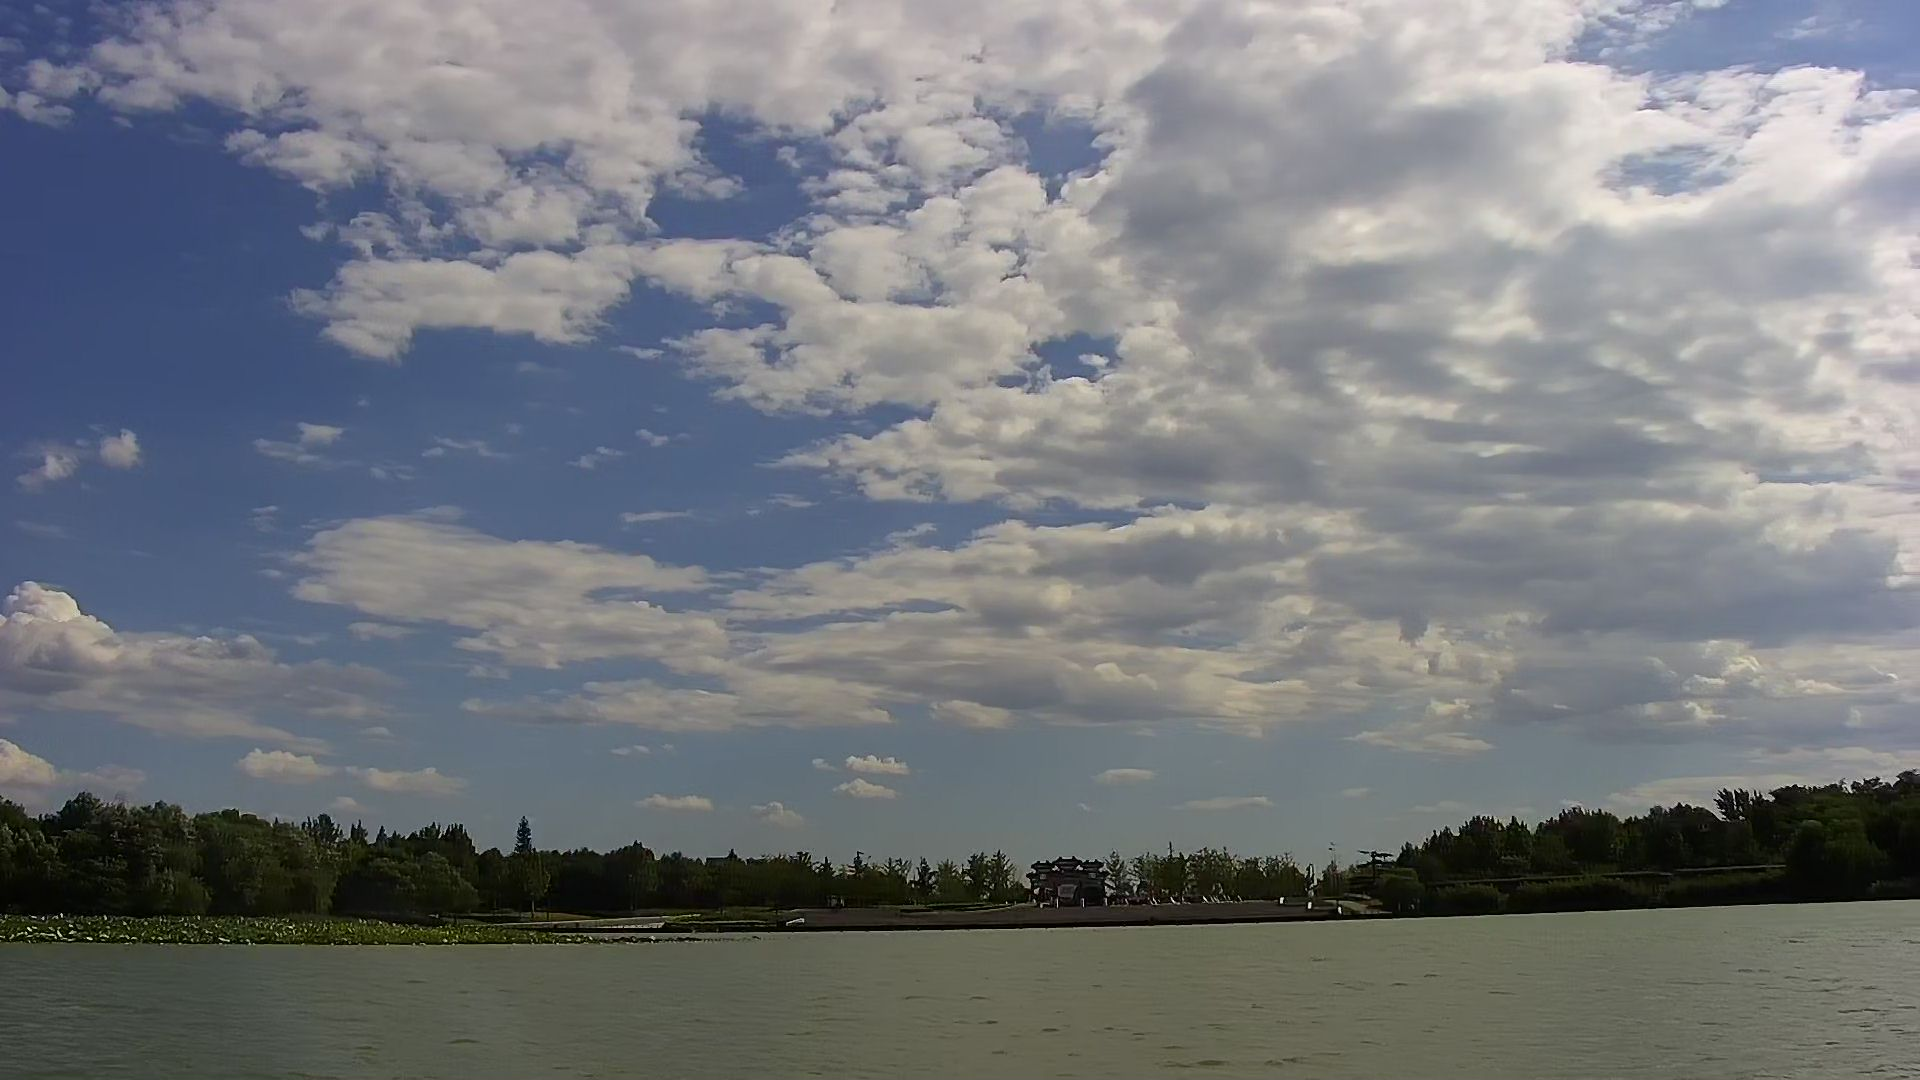harbor: (735, 894, 1436, 930)
